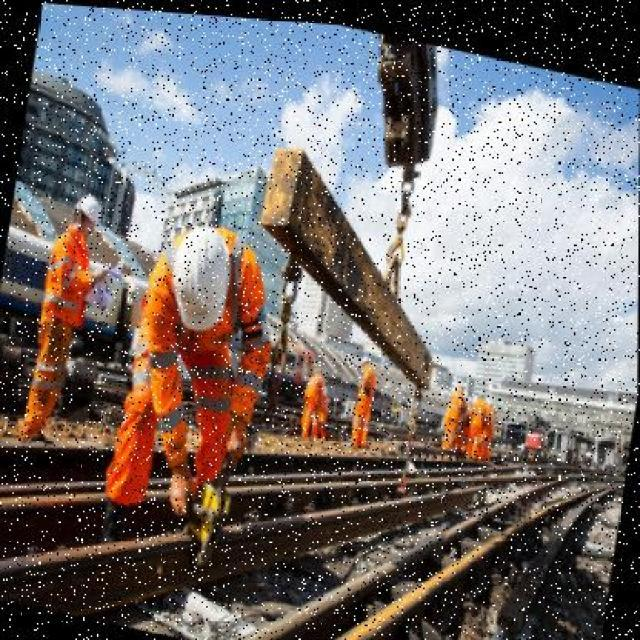helmet: (163, 216, 239, 336), (68, 180, 105, 232), (359, 344, 373, 364)
vest: (38, 229, 96, 319), (355, 362, 379, 396), (303, 368, 323, 400)
